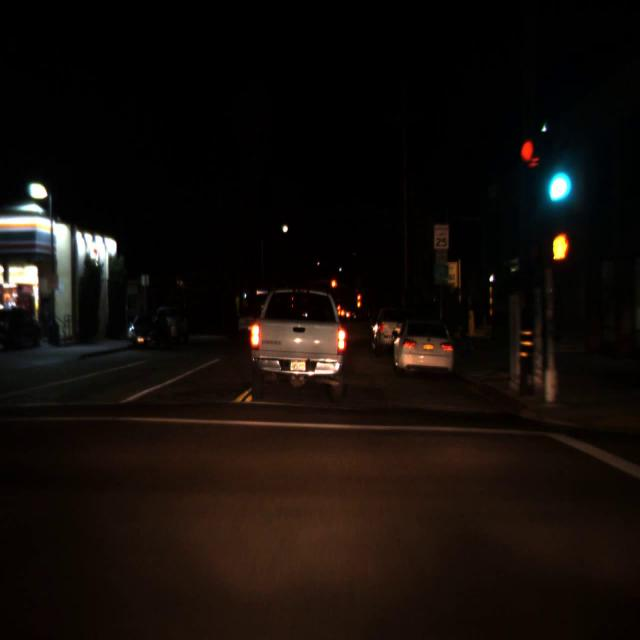go: (544, 150, 570, 207)
go traffic light: (544, 150, 570, 207)
stop: (330, 278, 338, 297), (356, 294, 362, 308)
stop traffic light: (330, 278, 338, 297), (356, 294, 362, 308)
